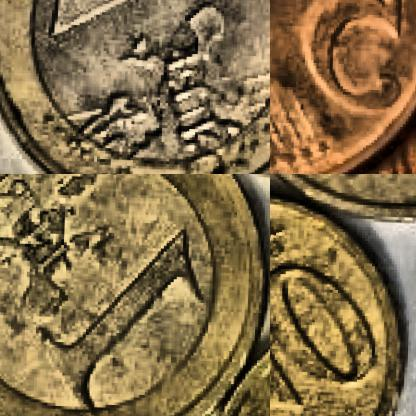coin: (0, 174, 269, 415), (0, 0, 269, 173), (270, 185, 398, 415), (270, 0, 415, 173)
